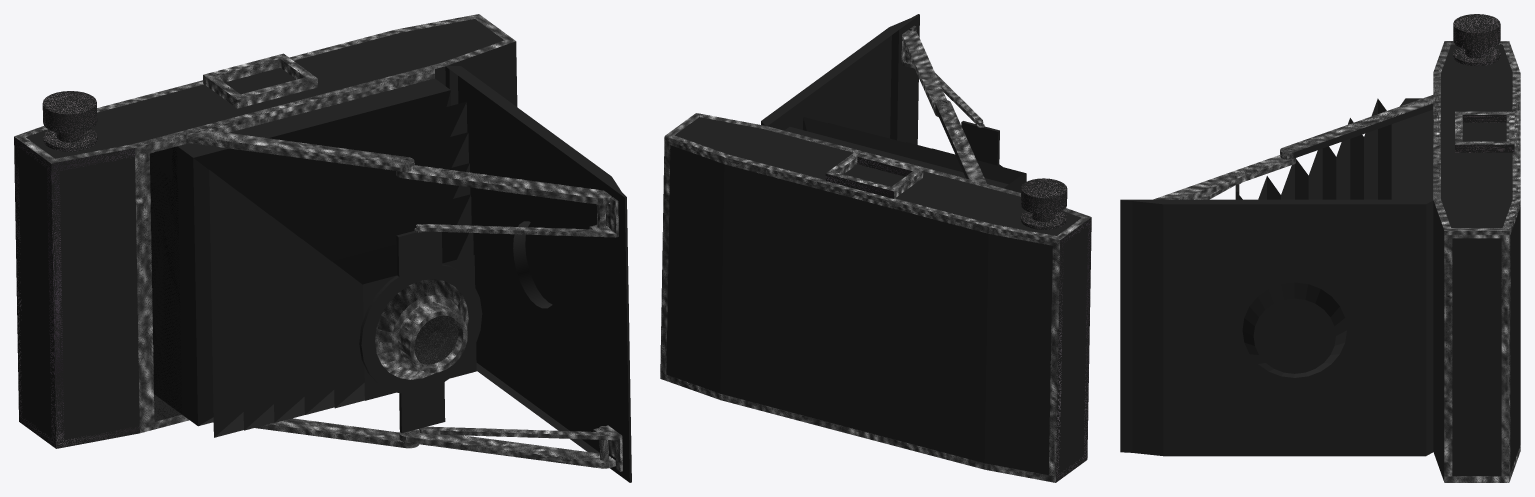
File: model_align.obj
3 views of the same model, side by side, from view 1: azimuth 30°, elevation 25°; view 2: azimuth 150°, elevation 25°; view 3: azimuth 270°, elevation 25° (orthographic). The views are drawn at different scales.
Parts seen in each view (by area): view 1: mesh1_mesh1-geometry; view 2: mesh1_mesh1-geometry; view 3: mesh1_mesh1-geometry.
Boxes of the visible parts, x1,y1,x2,y2 form: mesh1_mesh1-geometry: [14, 14, 631, 482]; mesh1_mesh1-geometry: [660, 14, 1091, 482]; mesh1_mesh1-geometry: [1120, 14, 1520, 482].
Bounding box in the file's own units: 0.1727 × 0.1149 × 0.1461.
